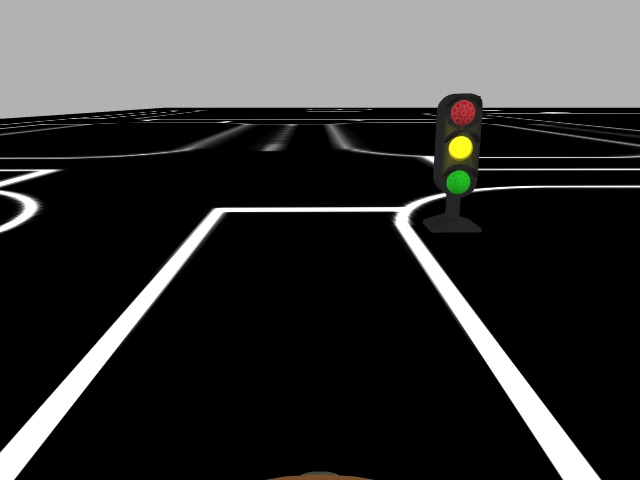yellow_light: (436, 93, 483, 197)
